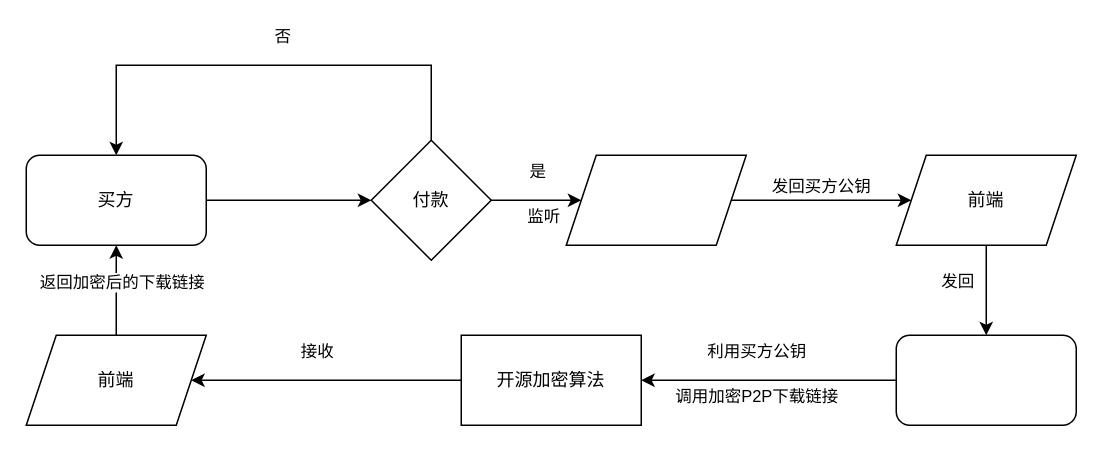
The diagram is 1103 pixels wide and 452 high, and some of its shapes have lost their labels. The box of each missing label's shape, as (x1, y1, x2, y2) in pixels:
卖方: (895, 334, 1076, 425)
合约端: (565, 154, 746, 245)
